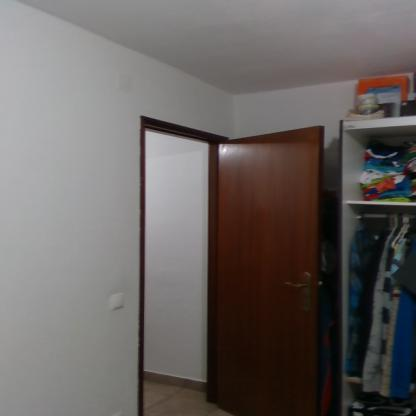semi: (131, 110, 340, 415)
